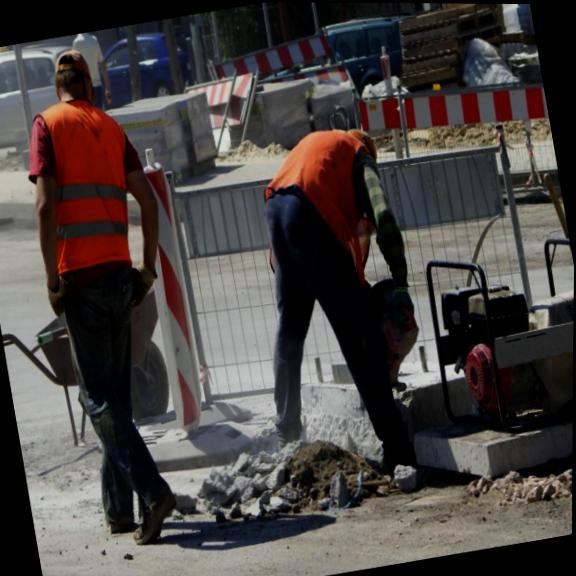no_safety_vest: (251, 105, 384, 268)
safety_vest: (20, 93, 150, 300)
